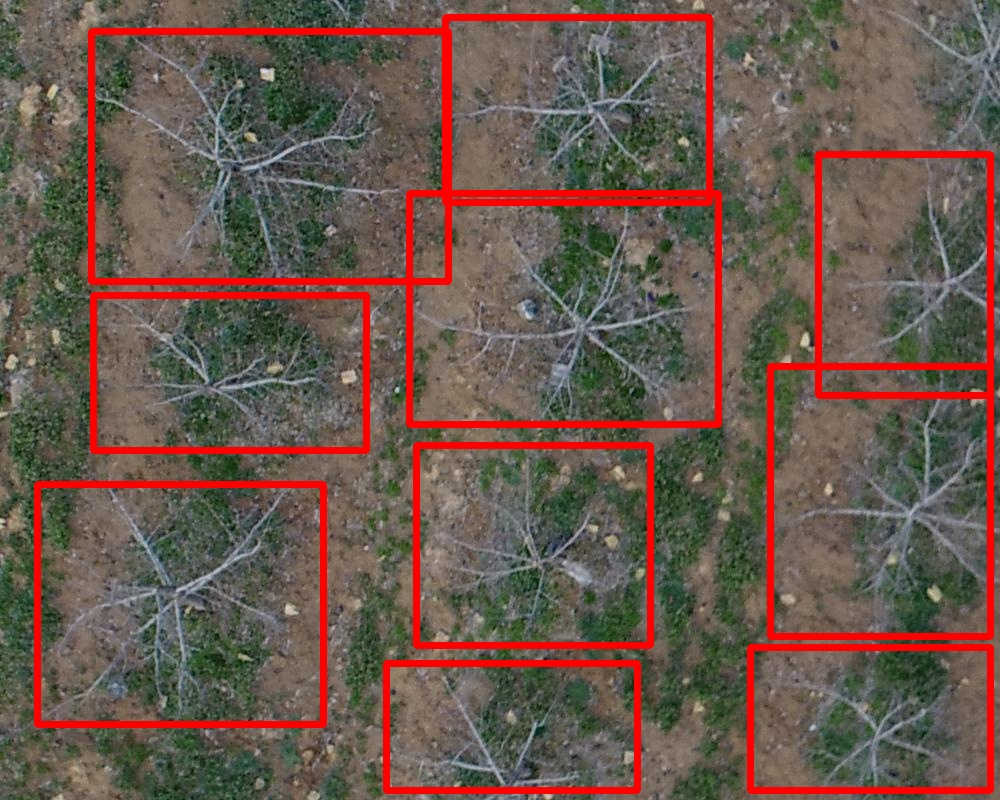apple: (91, 31, 448, 281), (409, 193, 718, 424), (37, 484, 323, 724), (770, 366, 990, 636), (445, 17, 709, 202), (416, 445, 650, 645), (93, 295, 366, 450), (818, 154, 990, 395), (750, 647, 990, 790), (386, 663, 637, 790)
